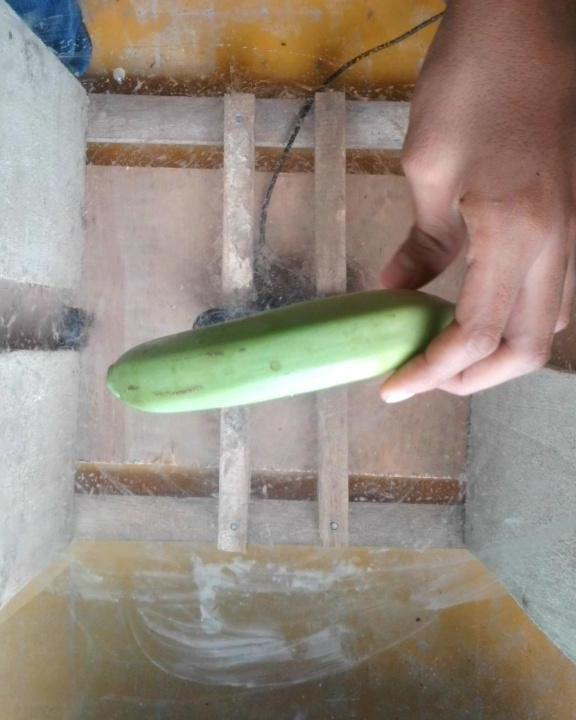CLASS B: (99, 284, 461, 424)
Class A: (124, 379, 215, 401)
